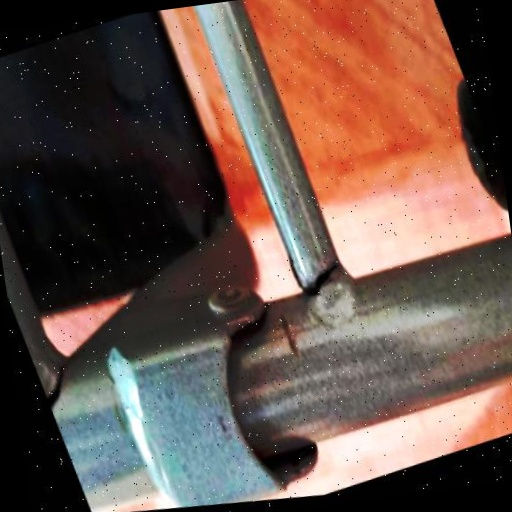crack: (271, 226, 367, 328), (31, 343, 105, 429)
